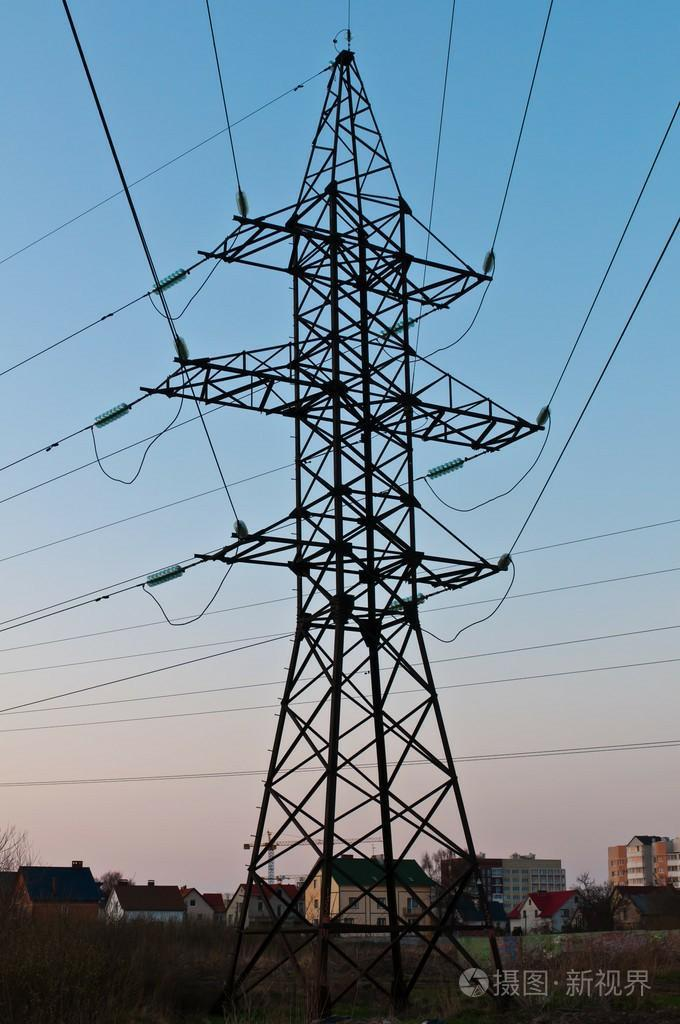power_tower: (148, 34, 550, 991)
